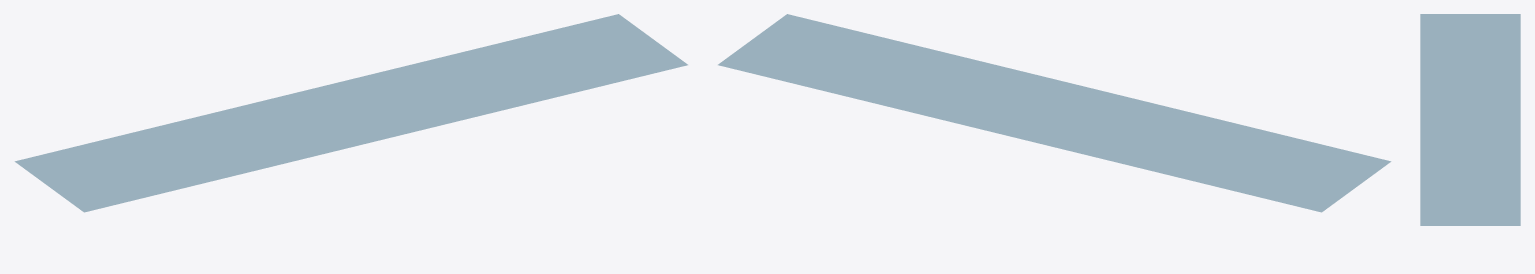
File: ship.glb
3 views of the same model, side by side, from view 1: azimuth 30°, elevation 25°; view 2: azimuth 150°, elevation 25°; view 3: azimuth 270°, elevation 25° (orthographic). The views are drawn at different scales.
Visible parts, largest first — view 1: ship_node; view 2: ship_node; view 3: ship_node.
Part boxes in pixels (x1,y1,x2,y2): ship_node: [14, 14, 687, 212]; ship_node: [718, 14, 1391, 212]; ship_node: [1420, 14, 1520, 225].
Bounding box in the file's own units: 4 × 0.3 × 0.8.
